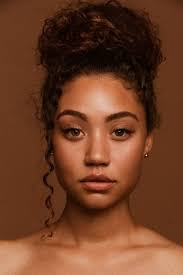person: (29, 2, 160, 222)
